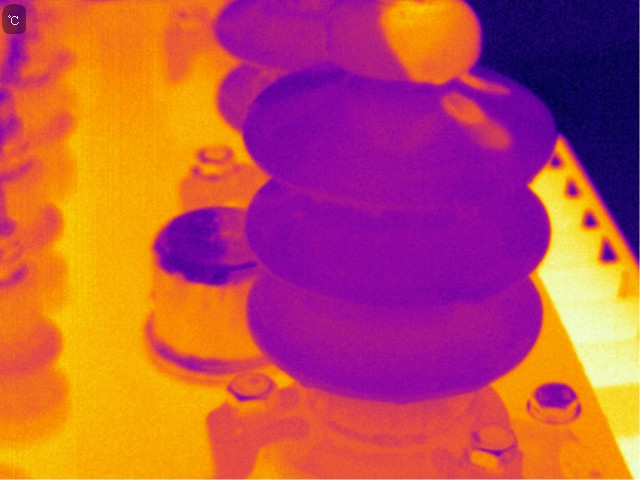Oil: (328, 1, 487, 82), (439, 88, 518, 157), (365, 103, 440, 154), (462, 75, 511, 101)
